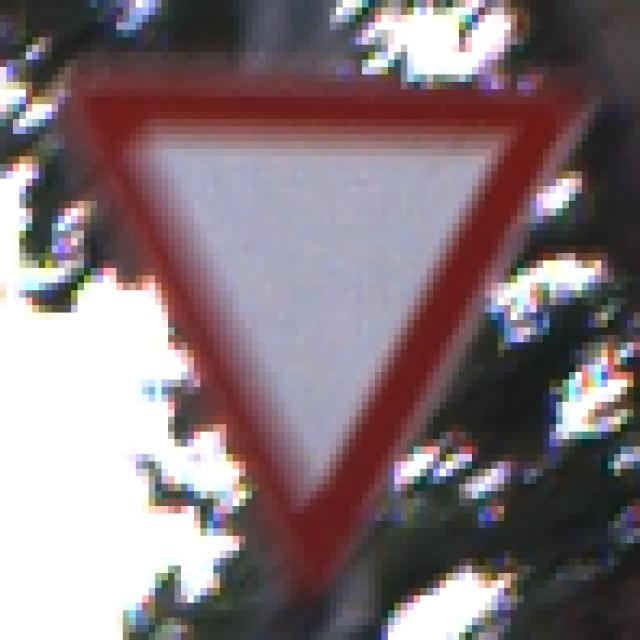Give Way: (53, 61, 589, 582)
